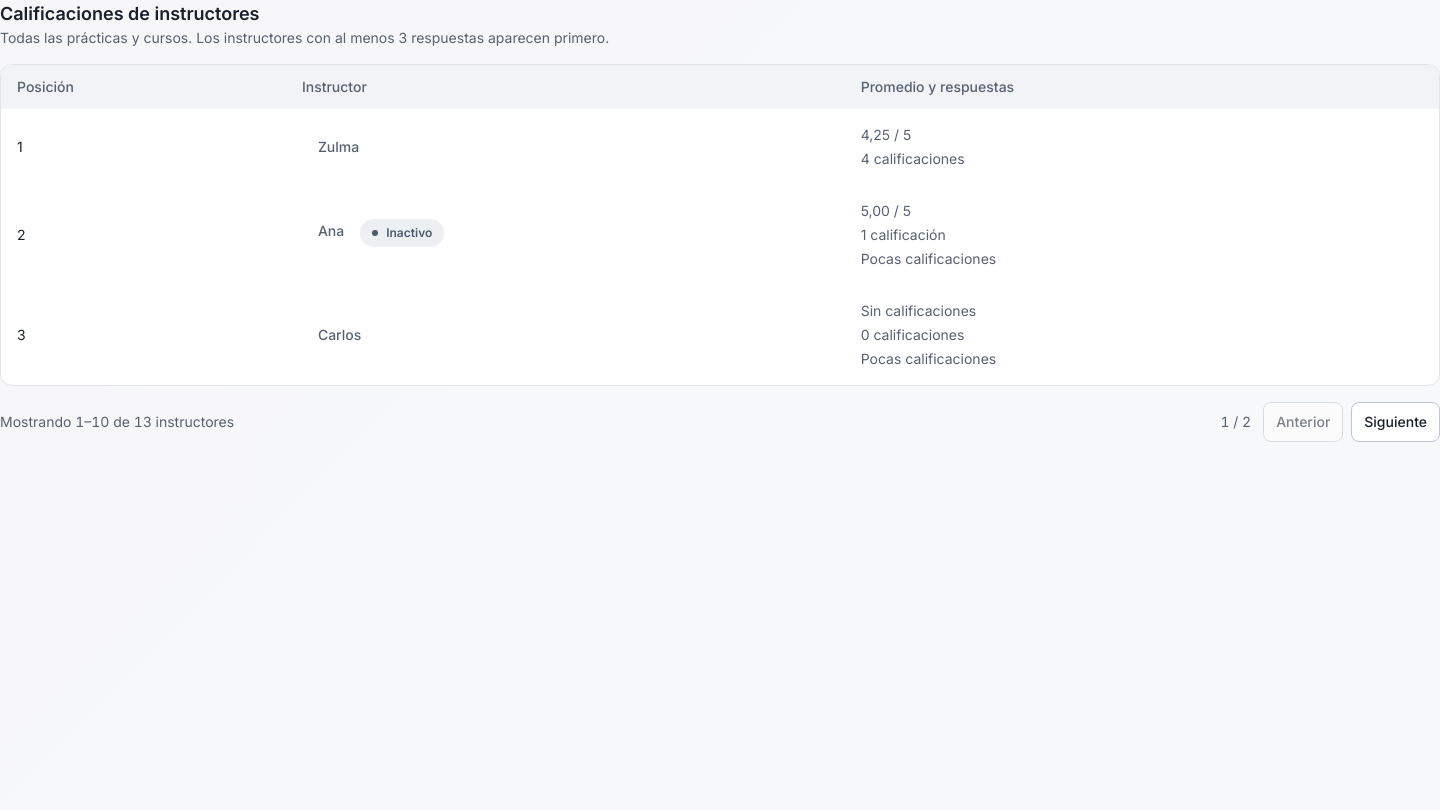
it: Ranking administrativo de calificaciones › sin respuestas conserva las cinco barras en cero y no inventa promedio
The image size is (1440, 810).
Click the button "Carlos": x=340, y=335 [302, 315, 377, 355]
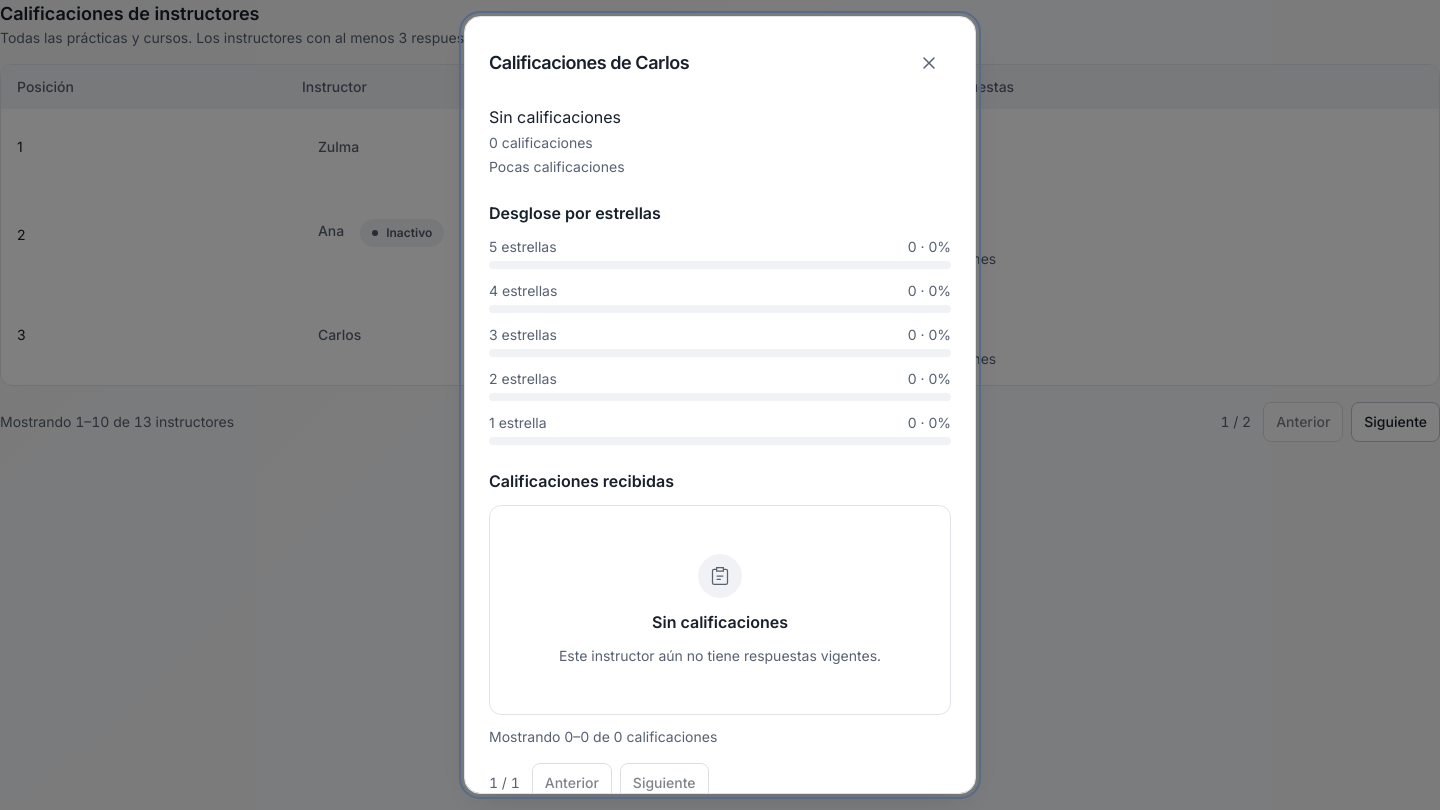
Expected: the text "Este instructor aún no tiene respuestas vigentes." is shown, [559, 646, 881, 666]
